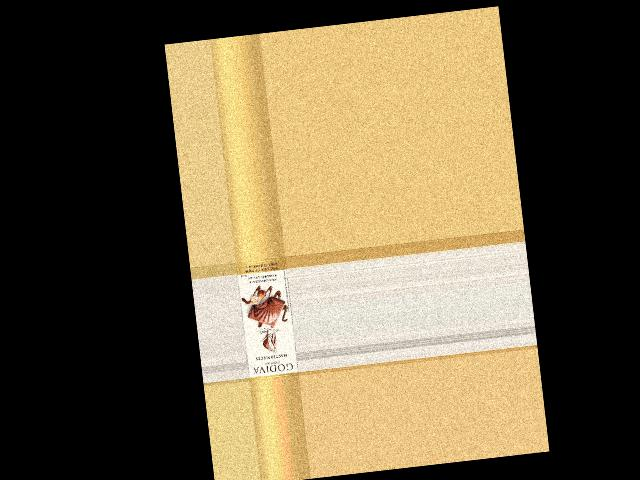chocolate: (235, 257, 298, 381)
